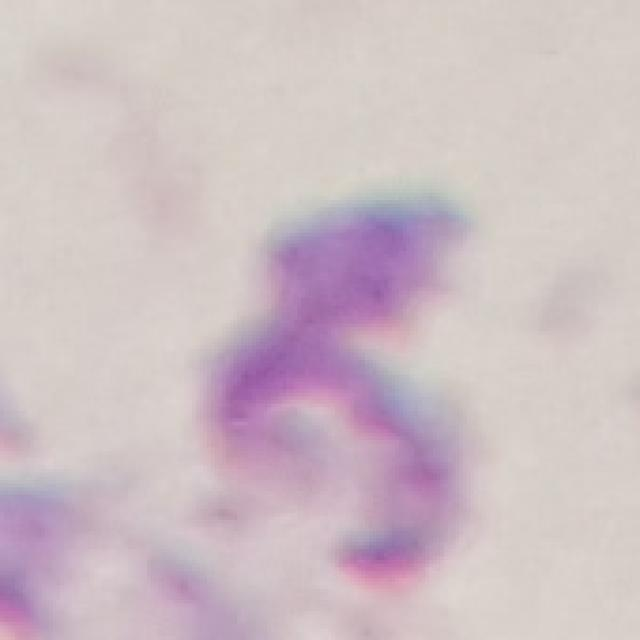non-sperm: (202, 182, 478, 595)
